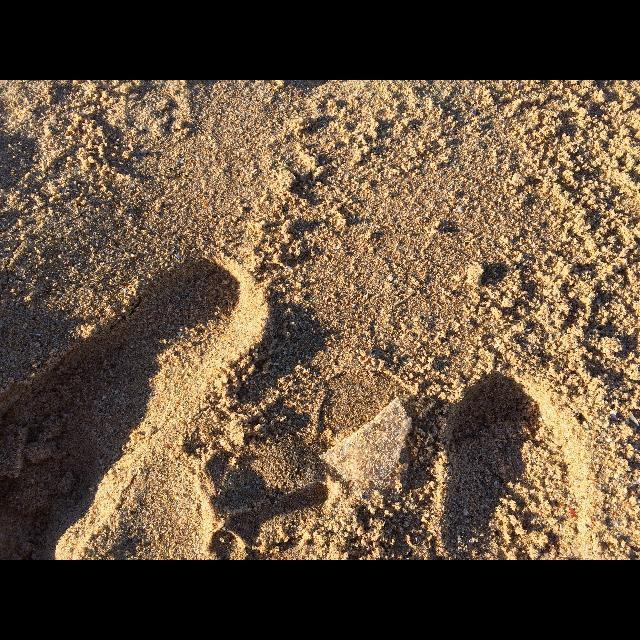Plastic: (318, 396, 412, 480)
